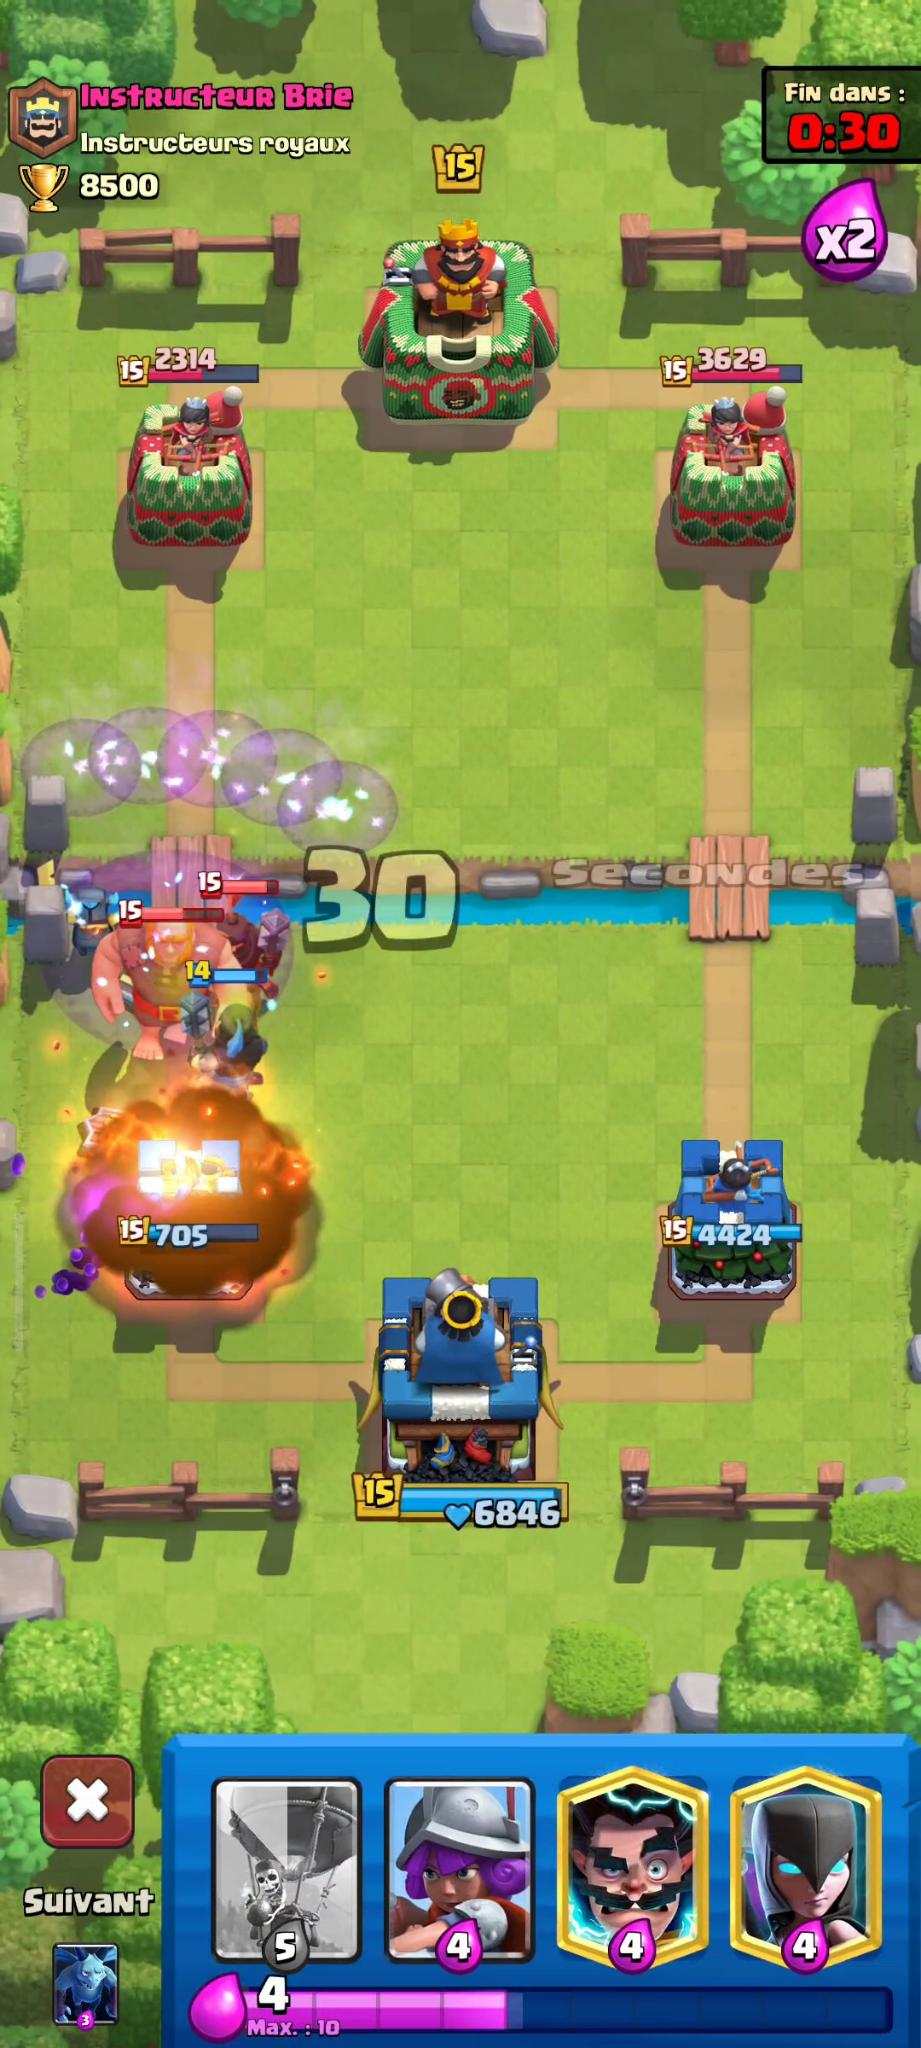geant: (89, 905, 257, 1062)
mini_PEKKA: (44, 875, 135, 968)
